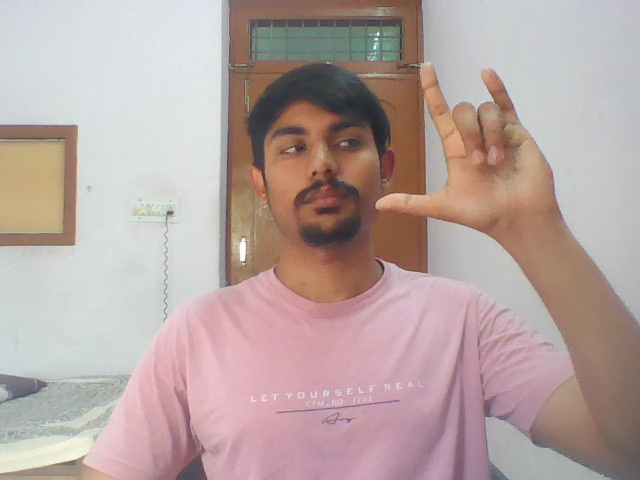I Love You: (367, 52, 591, 224)
